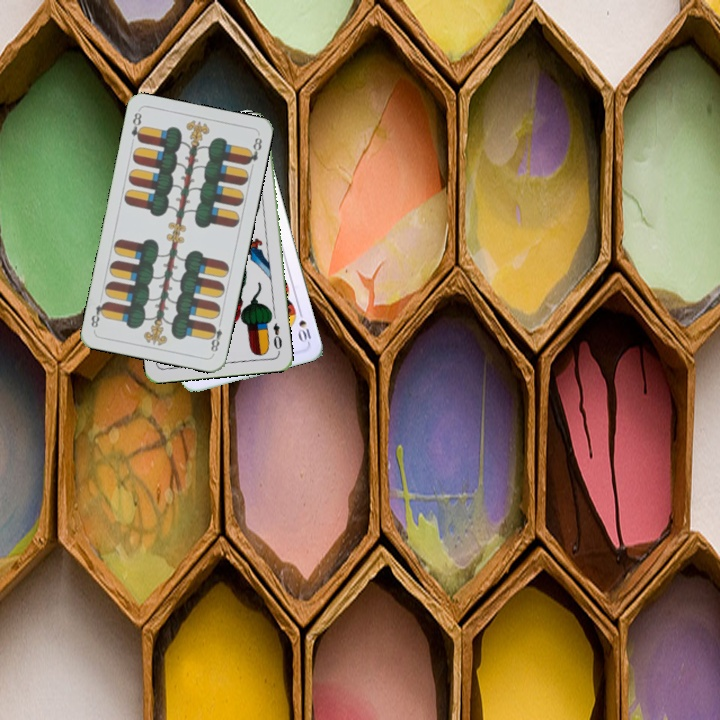E8: (206, 316, 225, 355), (127, 108, 146, 145)
EO: (269, 319, 285, 352)
S10: (295, 305, 314, 345)
